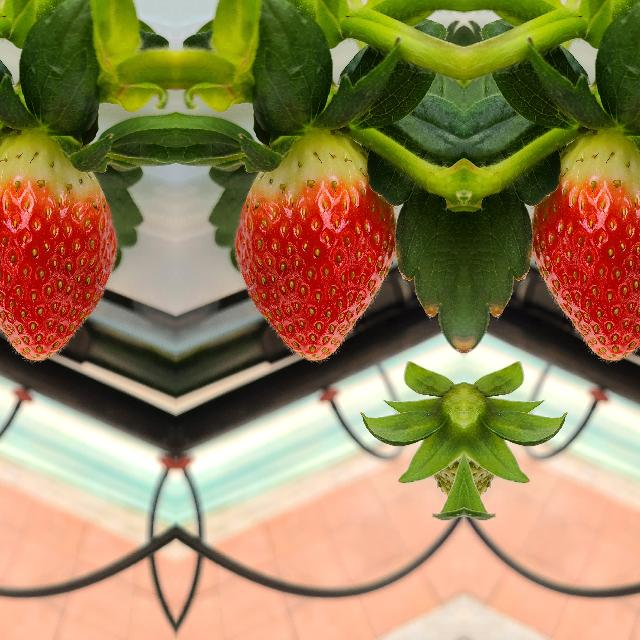Health_75: (232, 125, 396, 363), (0, 125, 117, 363), (530, 125, 640, 363)
